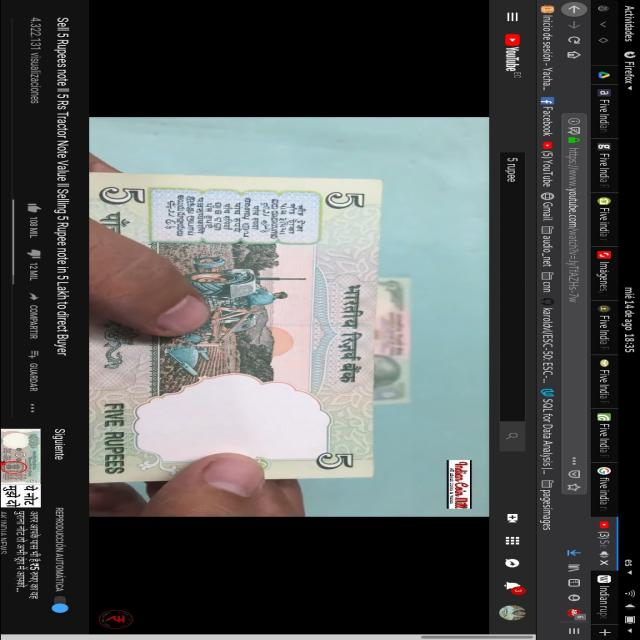5IndianRupees: (89, 178, 378, 480)
